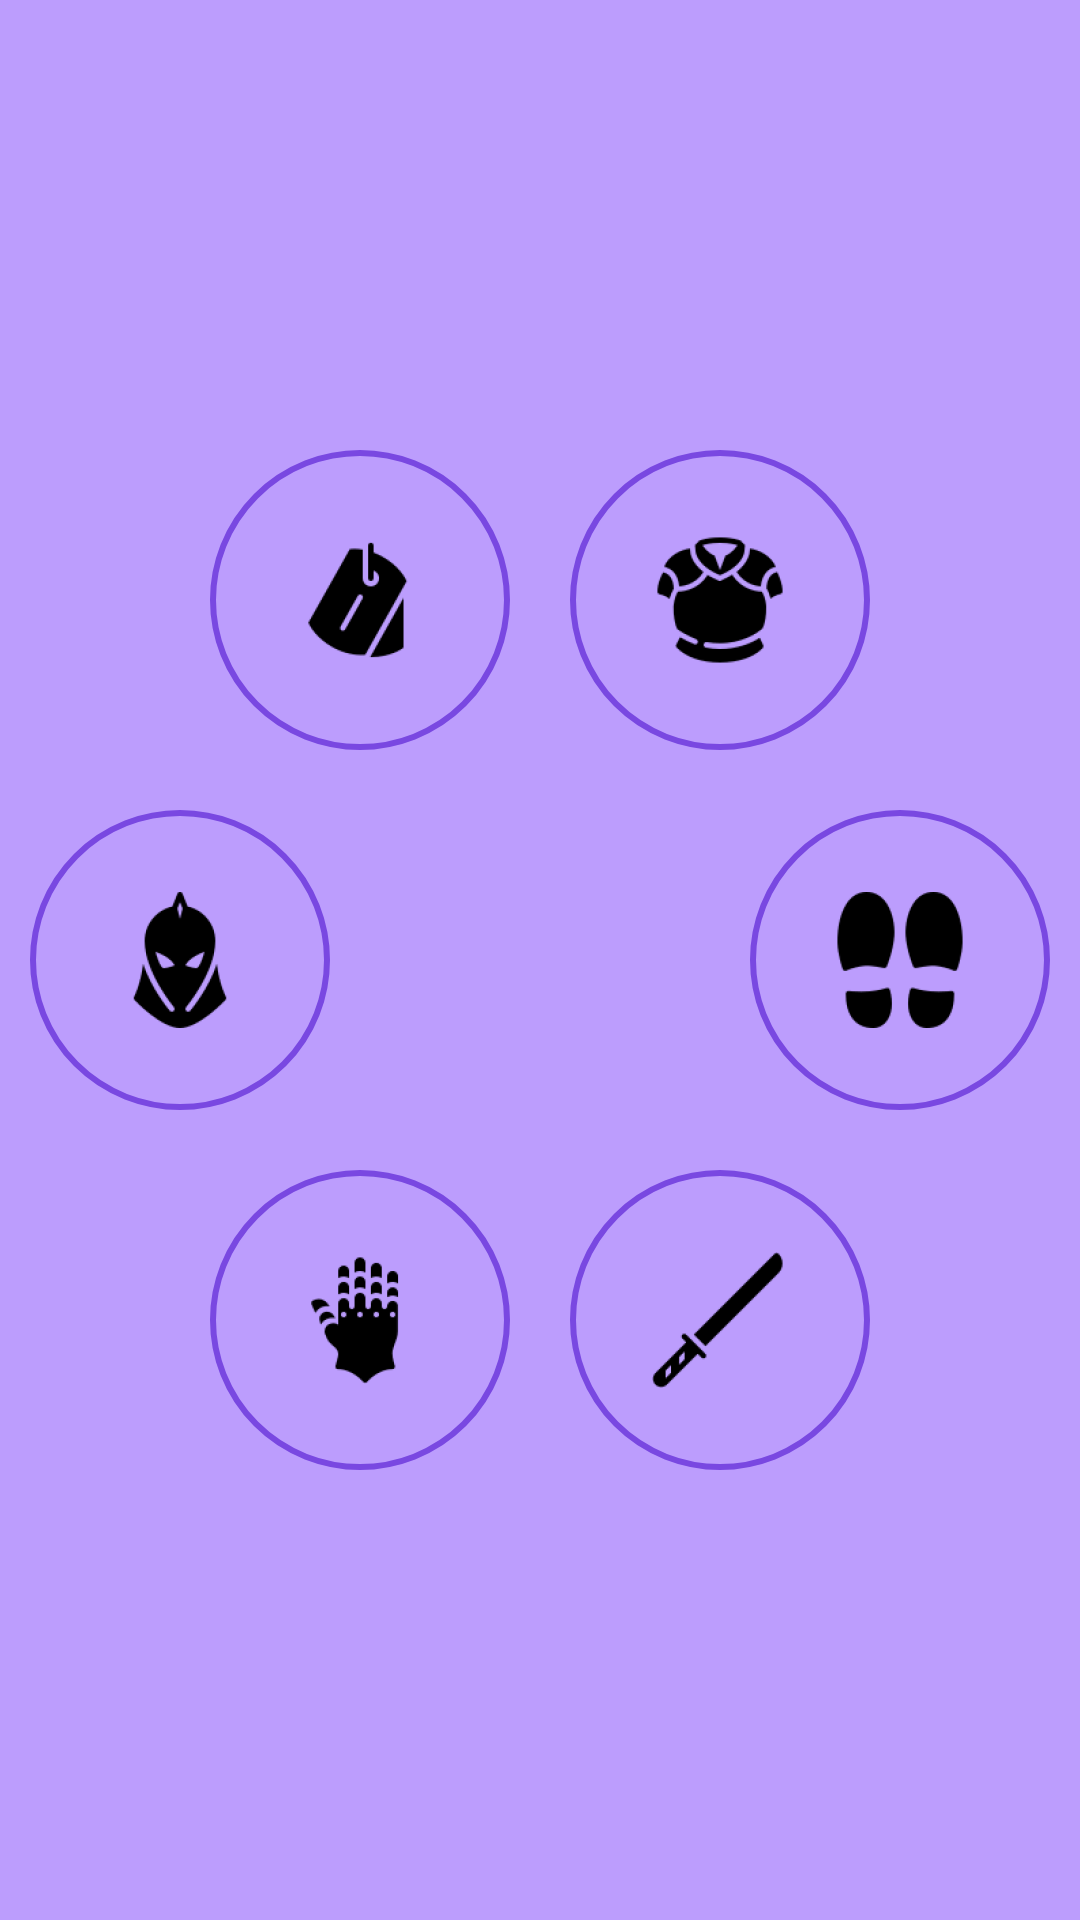

Screen size 1080w x 1920h. Icon name, then its box in pixels as (x1, y1, x2, y2):
armor: (570, 450, 870, 750)
glove: (210, 1170, 510, 1470)
helmet: (30, 810, 330, 1110)
necklace: (210, 450, 510, 750)
shoe: (750, 810, 1050, 1110)
sword: (570, 1170, 870, 1470)
